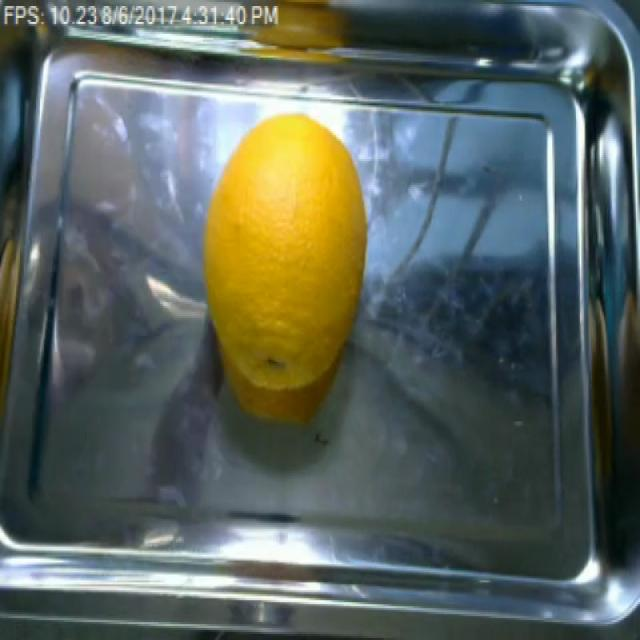Fruit: (193, 105, 371, 428)
